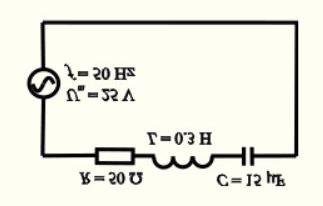inductor: (146, 143, 222, 177)
